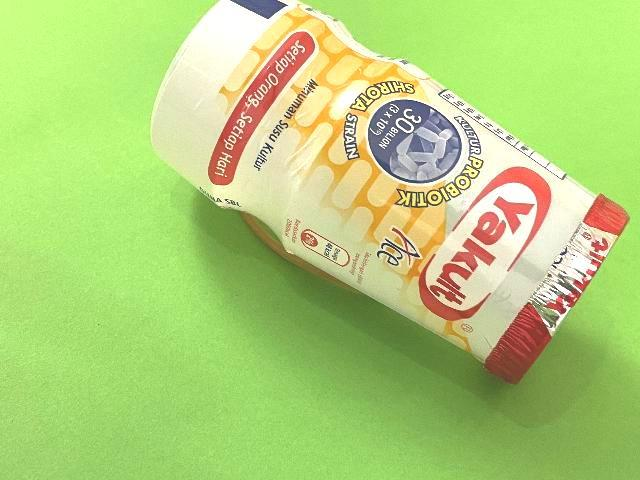plasticbottle: (148, 0, 632, 388)
